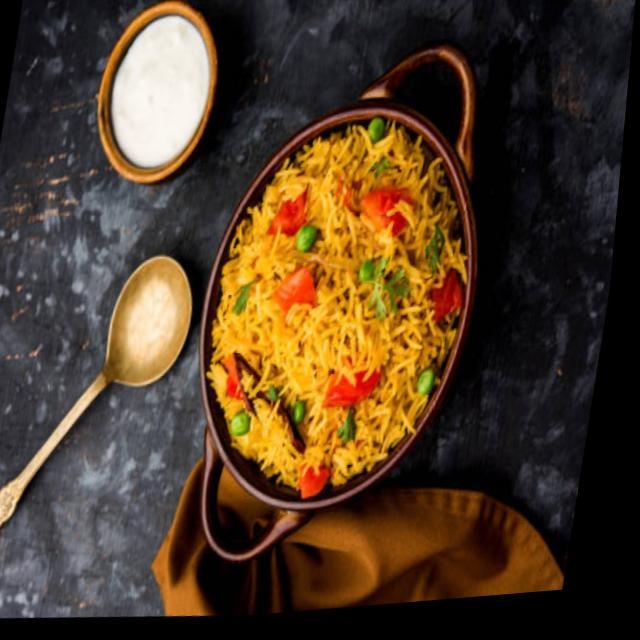BIRIYANI: (205, 115, 467, 498)
CURD: (109, 1, 211, 171)
